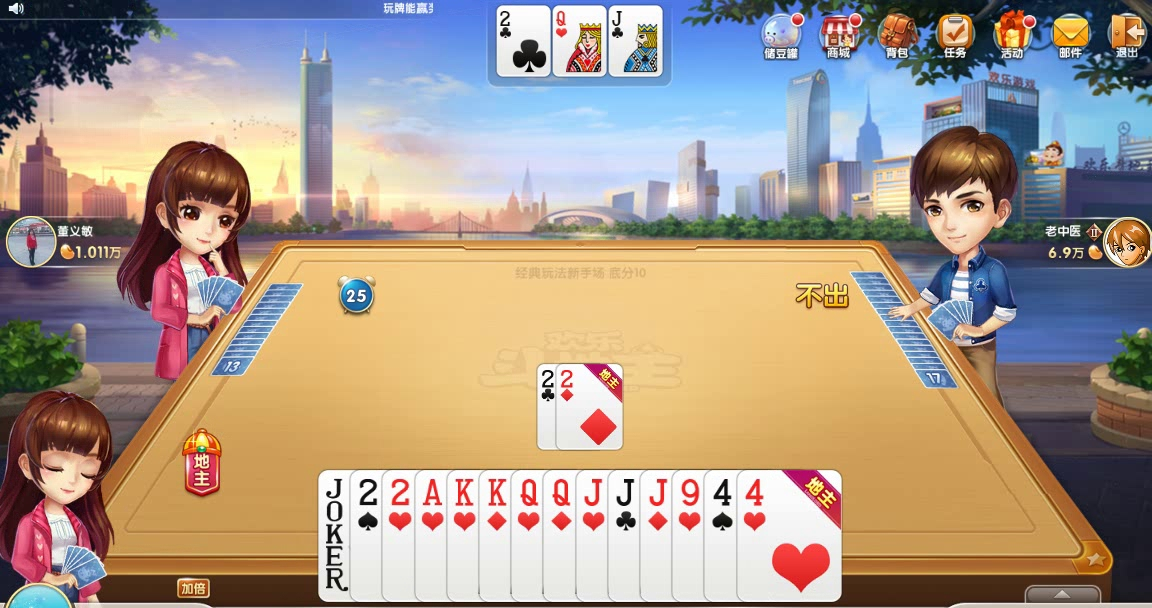11~1: (640, 469, 748, 602)
11~2: (608, 469, 716, 602), (607, 6, 664, 77)
11~3: (575, 469, 683, 602)
12~1: (543, 469, 651, 602)
12~3: (511, 469, 619, 602), (551, 6, 608, 77)
13~1: (479, 468, 587, 601)
13~3: (447, 468, 555, 601)
14~3: (415, 468, 523, 601)
15~1: (555, 364, 623, 450)
15~2: (535, 363, 603, 449), (495, 5, 552, 76)
15~3: (381, 468, 489, 601)
15~4: (348, 468, 456, 601)
17~3: (318, 468, 426, 601)
4~3: (735, 469, 843, 602)
4~4: (702, 469, 810, 602)
9~3: (672, 469, 780, 602)
